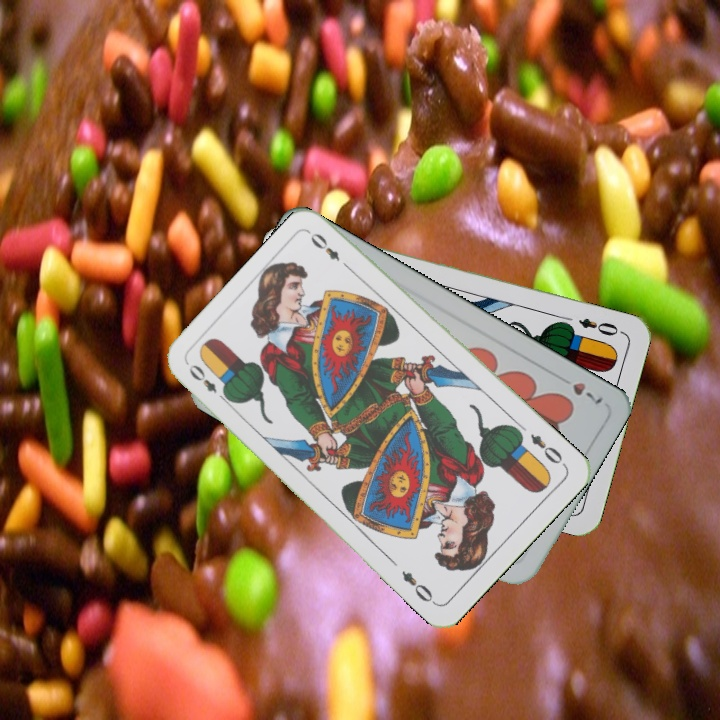EO: (184, 360, 232, 406), (526, 429, 565, 467), (574, 313, 626, 339)
H7: (553, 370, 606, 407)
